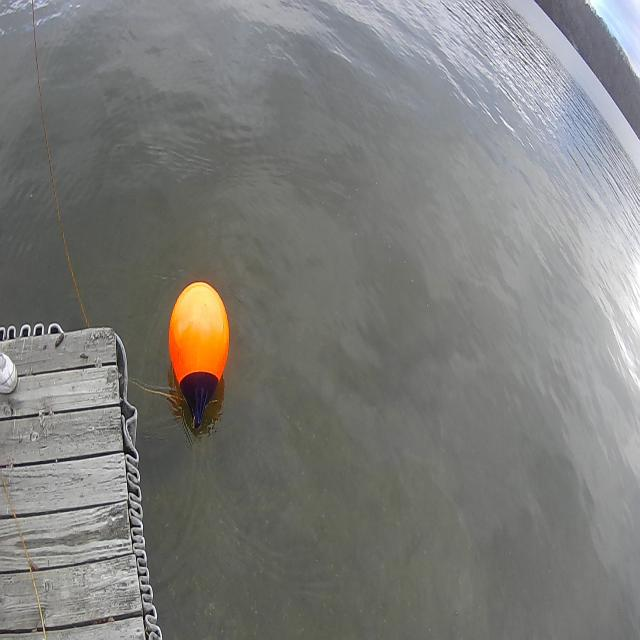Buoy: (164, 271, 235, 433)
